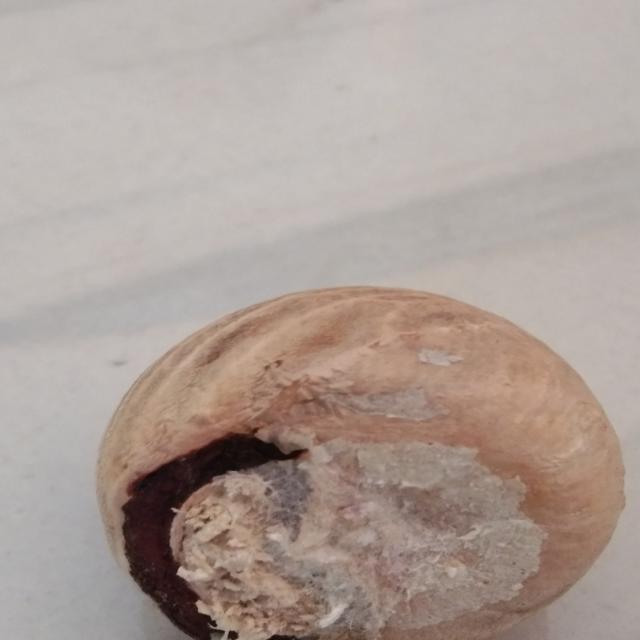good: (95, 275, 640, 640)
